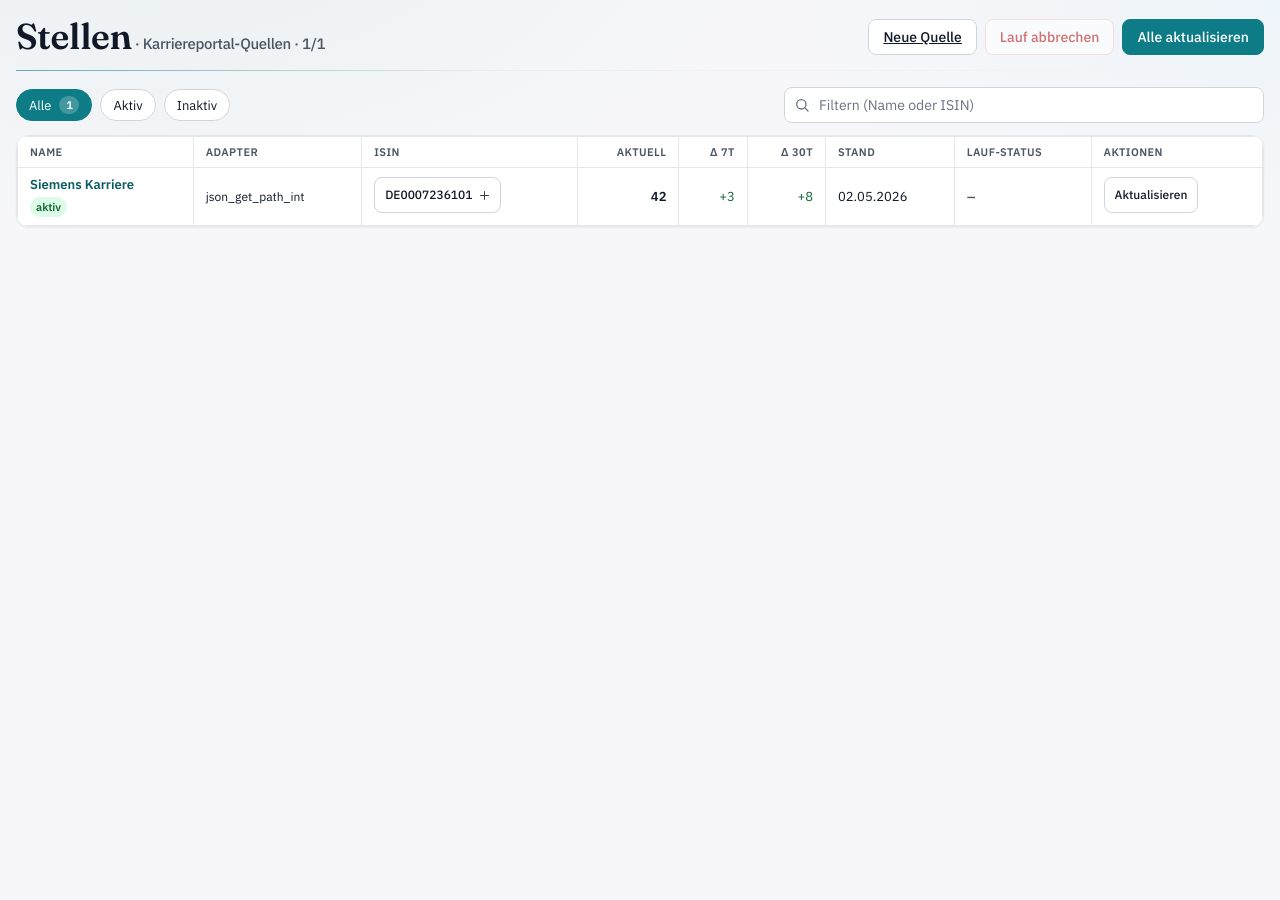
Test: JobsPage › opens the CreateStockModal with pre-filled values when the add button is clicked
Expected: the link "Siemens Karriere" is shown, x1=30 y1=176 x2=134 y2=193
Click the button "DE0007236101 ＋" at (438,195), box x1=374 y1=177 x2=502 y2=213
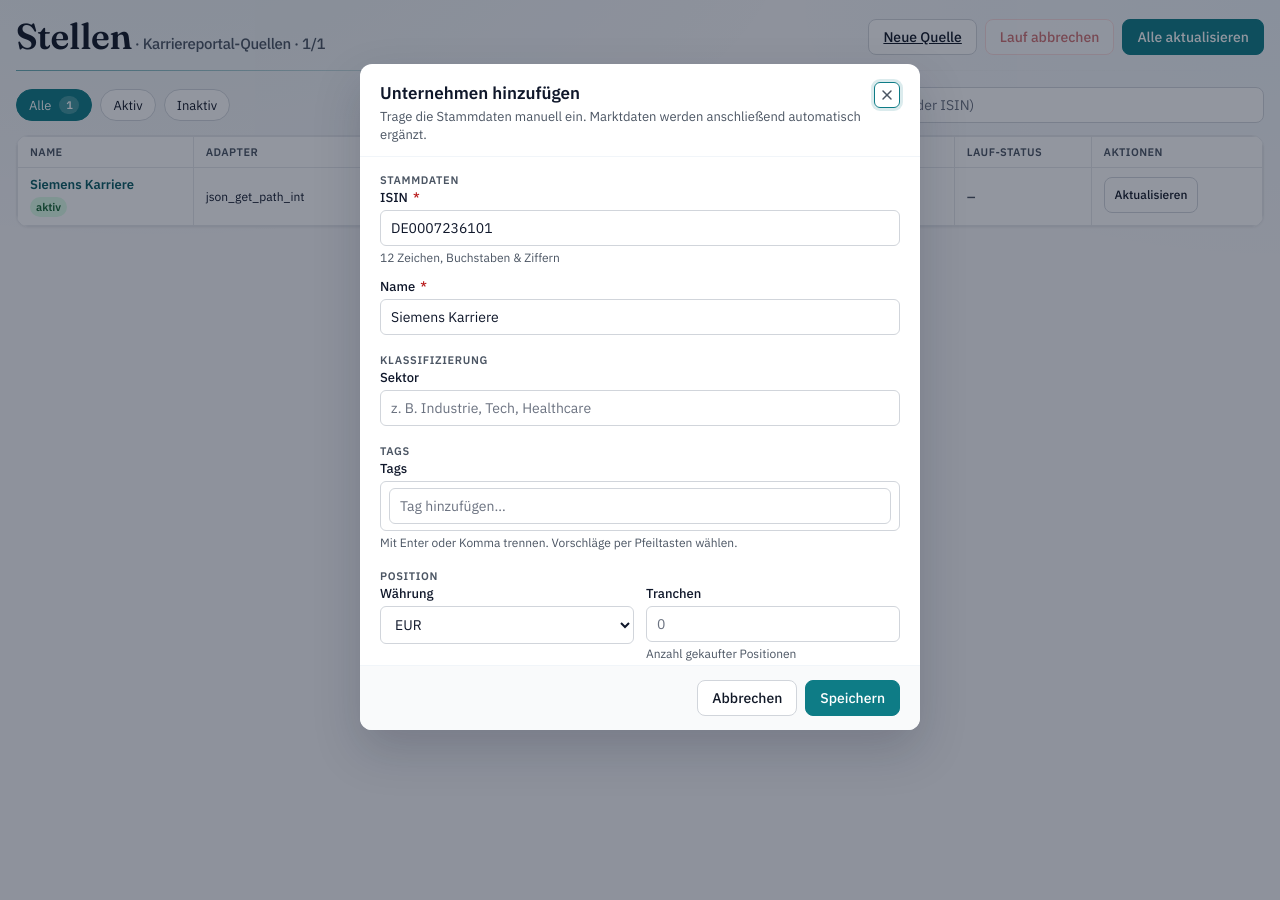
Result: the dialog is shown at x1=360 y1=64 x2=920 y2=730
Result: the field labelled "ISIN *" holds "DE0007236101" at x1=380 y1=210 x2=900 y2=246
Result: the field labelled "Name *" holds "Siemens Karriere" at x1=380 y1=299 x2=900 y2=335
